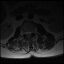CCS_normal: (27, 29, 29, 36)
LFS_normal: (31, 28, 34, 34)
LLS_normal: (29, 29, 31, 36)
RFS_normal: (23, 30, 25, 35)
RLS_normal: (25, 29, 27, 36)
